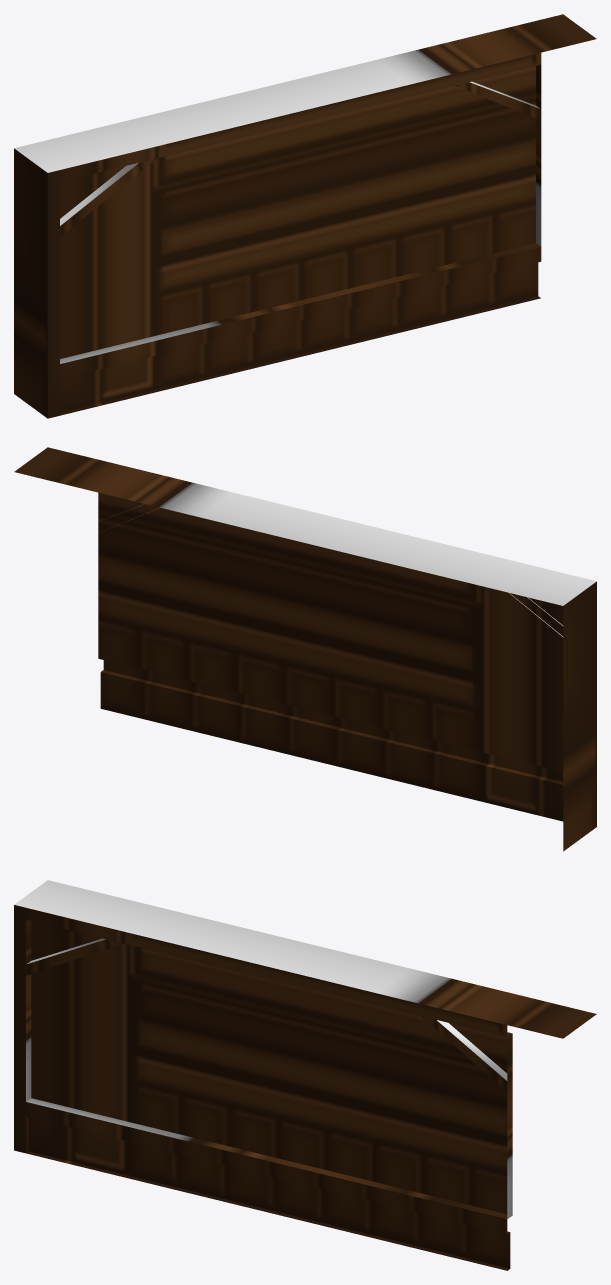
File: wall1.FBX
3 renders of one model, top to bottom at view 1: azimuth 30°, elevation 25°; view 2: azimuth 150°, elevation 25°; view 3: azimuth 330°, elevation 25°, orthographic.
Parts seen in each view (by area): view 1: Object103; view 2: Object103; view 3: Object103.
Boxes of the visible parts, bbox=[...] form: Object103: bbox=[14, 14, 596, 418]; Object103: bbox=[14, 447, 596, 851]; Object103: bbox=[14, 880, 596, 1270].
Size of the model in its own units: 1113 by 476 by 119.
